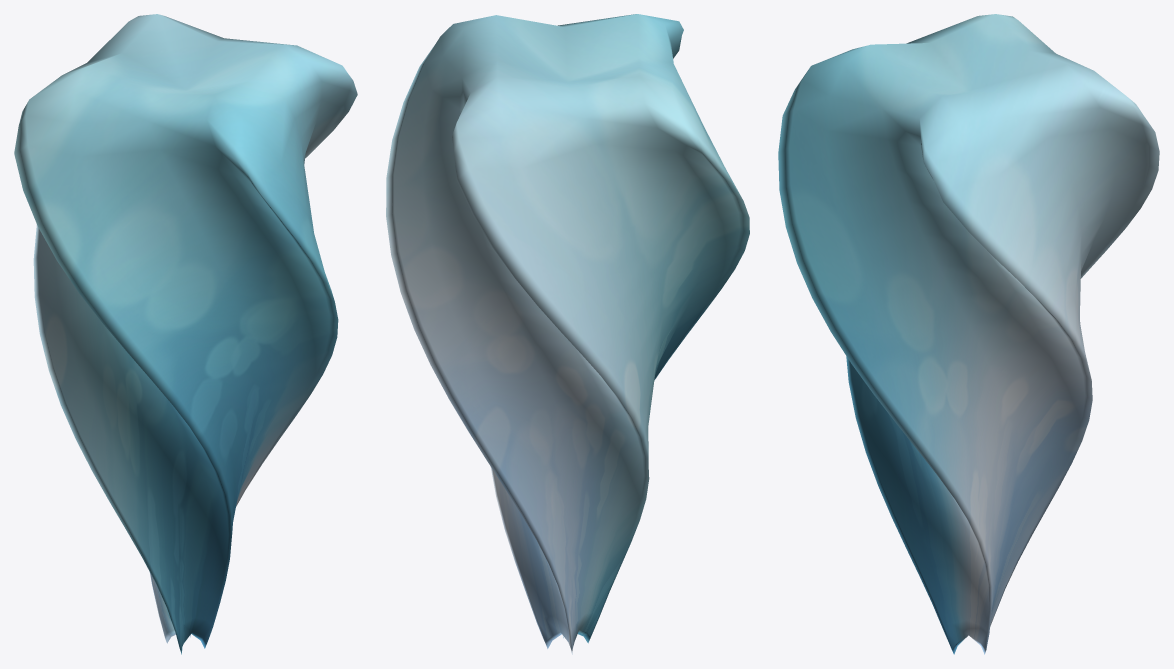
File: whirl (1).FBX
3 renders of one model, left to right at view 1: azimuth 30°, elevation 25°; view 2: azimuth 150°, elevation 25°; view 3: azimuth 270°, elevation 25°, orthographic.
Parts seen in each view (by area): view 1: Box001_0; view 2: Box001_0; view 3: Box001_0.
Boxes of the visible parts, x1,y1,x2,y2 form: Box001_0: (14, 14, 357, 654); Box001_0: (386, 14, 749, 654); Box001_0: (778, 14, 1159, 654).
Size of the model in its own units: 174 by 303 by 176.
Materials: 1 (1 with a texture image).
